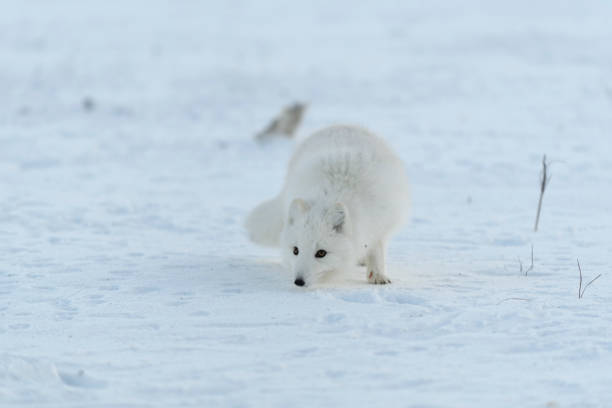arcticfox: (283, 216, 343, 298)
